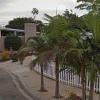Palm tree: (27, 25, 95, 99)
